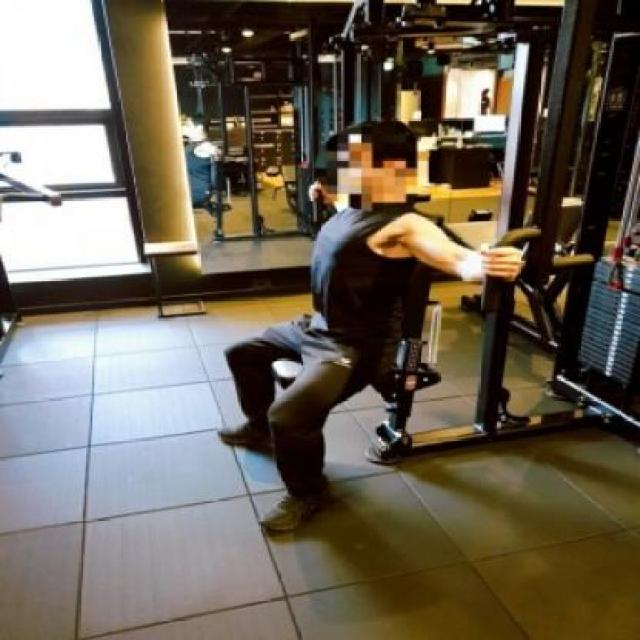chest fly machine: (197, 0, 640, 543)
